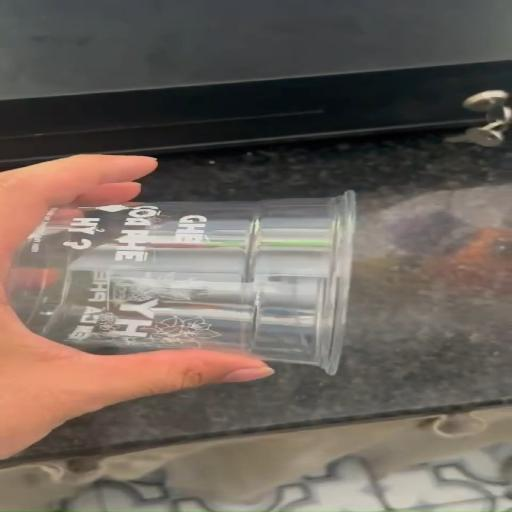ly_nhua: (5, 191, 354, 374)
